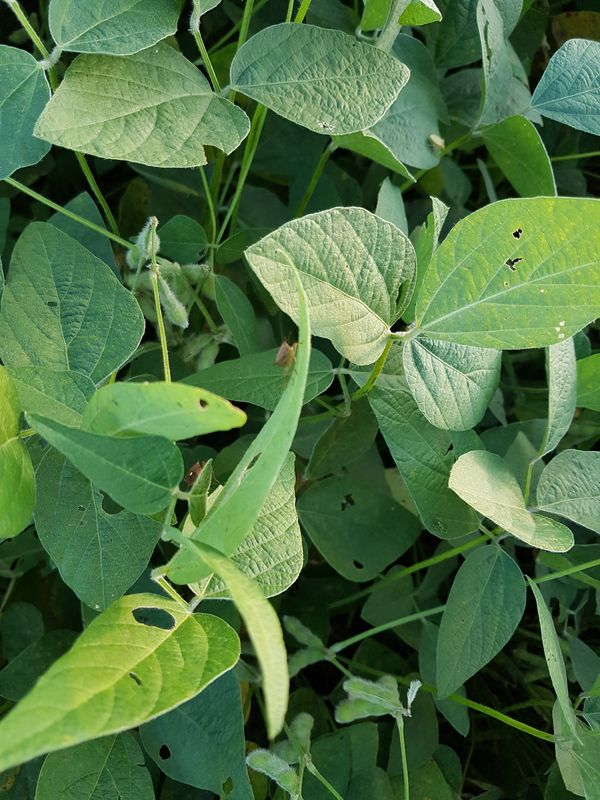Euschistus_heros_adulto: (175, 455, 216, 496), (268, 334, 306, 376)
Euschistus_heros_ninfa: (424, 131, 450, 156)
